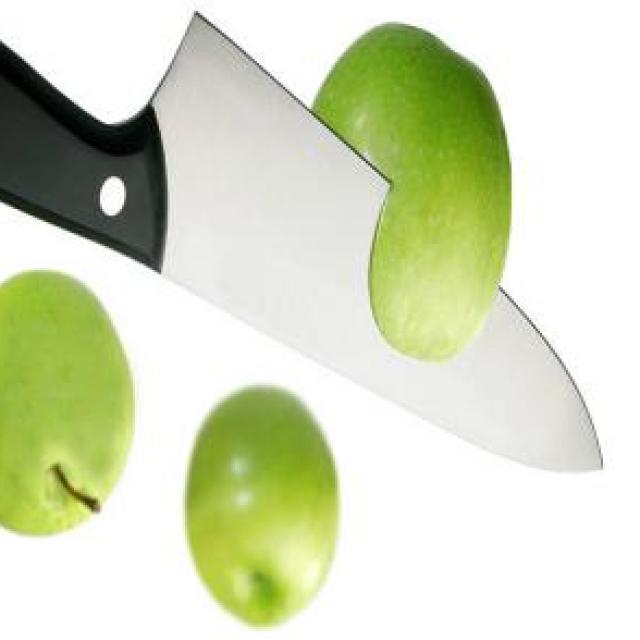knife: (0, 15, 605, 477)
